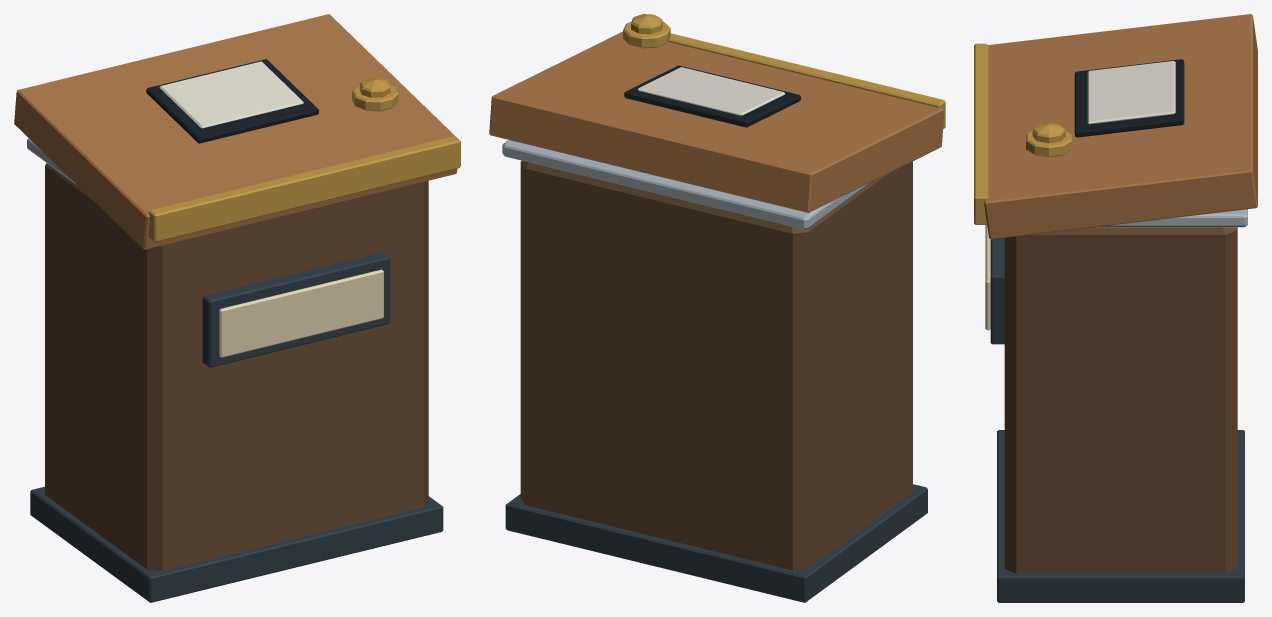
The model's file is b10_restaurant_hostess_station.glb.
The picture shows the model from 3 angles, left to right: view 1: azimuth 30°, elevation 25°; view 2: azimuth 150°, elevation 25°; view 3: azimuth 270°, elevation 25°; orthographic projection. The views are drawn at different scales.
Visible parts, largest first — view 1: b10_restaurant_hostess_station; view 2: b10_restaurant_hostess_station; view 3: b10_restaurant_hostess_station.
Boxes of the visible parts, x1=… form: b10_restaurant_hostess_station: x1=14, y1=14, x2=460, y2=602; b10_restaurant_hostess_station: x1=489, y1=14, x2=945, y2=602; b10_restaurant_hostess_station: x1=974, y1=14, x2=1257, y2=602.
Size of the model in its own units: 0.88 by 1.19 by 0.6703.
